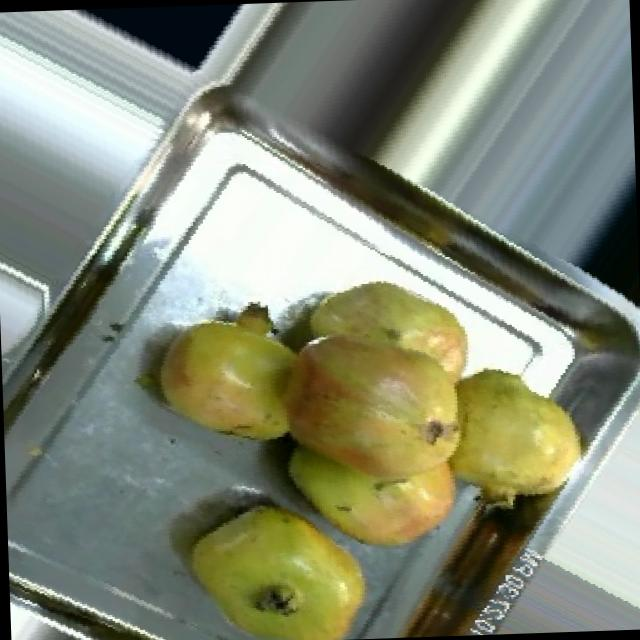fruit: (258, 244, 498, 546), (118, 276, 330, 471), (164, 471, 396, 640), (428, 334, 612, 532)
